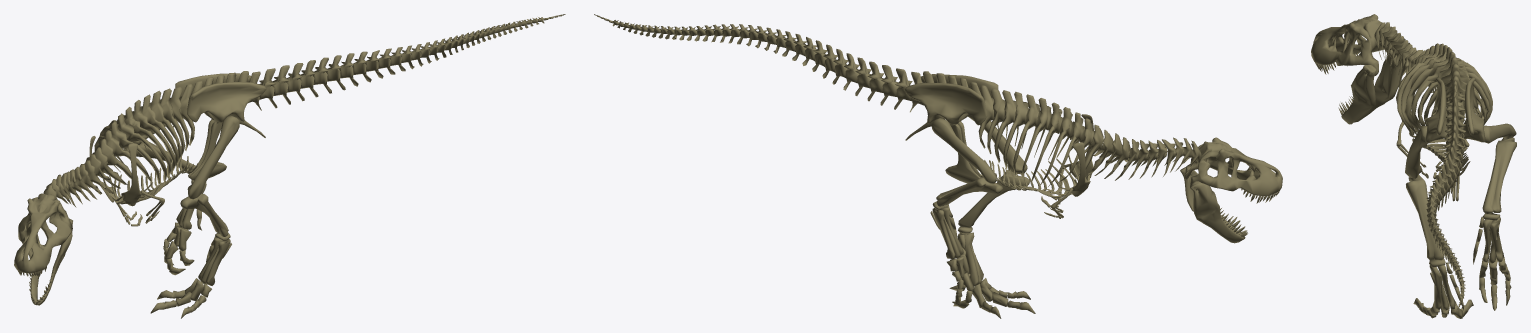
File: Fossil.FBX
The picture shows the model from 3 angles, left to right: view 1: azimuth 30°, elevation 25°; view 2: azimuth 150°, elevation 25°; view 3: azimuth 270°, elevation 25°; orthographic projection. The views are drawn at different scales.
Parts seen in each view (by area): view 1: back bone, waist, left leg, head, right leg, below rib, left hand, jaw, Left_Femur; view 2: back bone, waist, right leg, head, left leg, jaw, below rib, Left_Femur, right hand; view 3: back bone, right leg, head, jaw, left leg, waist, Left_Femur, below rib, left hand.
Part boxes in pixels (box(x1,y1,x2,y2)): back bone: box(43, 14, 565, 208); waist: box(175, 73, 265, 180); left leg: box(150, 116, 239, 318); head: box(14, 193, 72, 277); right leg: box(125, 125, 206, 275); below rib: box(103, 156, 198, 204); left hand: box(121, 143, 164, 223); jaw: box(26, 218, 72, 305); Left_Femur: box(180, 194, 228, 236); back bone: box(594, 14, 1201, 188); waist: box(904, 74, 998, 183); right leg: box(930, 118, 1002, 308); head: box(1184, 137, 1282, 203); left leg: box(957, 115, 1035, 318); jaw: box(1180, 167, 1247, 243); below rib: box(974, 154, 1090, 197); Left_Femur: box(958, 170, 1030, 227); right hand: box(1044, 142, 1090, 218); back bone: box(1374, 22, 1492, 309); right leg: box(1473, 123, 1516, 310); head: box(1311, 14, 1398, 75); jaw: box(1338, 54, 1402, 124); left leg: box(1405, 126, 1473, 318); waist: box(1425, 77, 1485, 201); Left_Femur: box(1406, 174, 1444, 260); below rib: box(1406, 110, 1470, 175); left hand: box(1396, 59, 1428, 178).
Bounding box in the file's own units: 2116 × 723 × 550.
